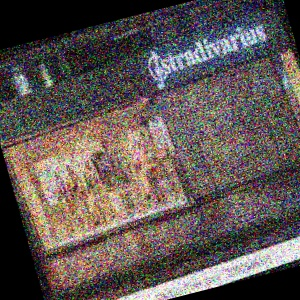stradivarius: (134, 0, 288, 53)
